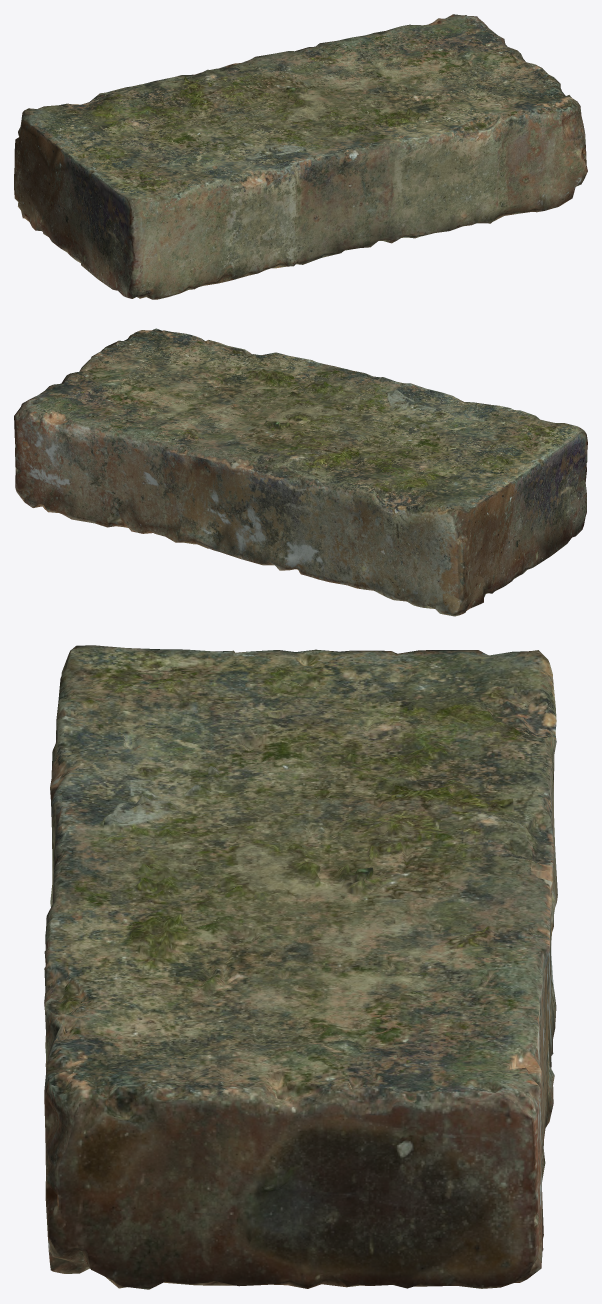
File: PX_Fired_brick_01_LOD3.fbx
3 renders of one model, top to bottom at view 1: azimuth 30°, elevation 25°; view 2: azimuth 150°, elevation 25°; view 3: azimuth 270°, elevation 25°, orthographic. The views are drawn at different scales.
Parts seen in each view (by area): view 1: PX_Fired_brick_01_LOD3; view 2: PX_Fired_brick_01_LOD3; view 3: PX_Fired_brick_01_LOD3.
Part boxes in pixels (bbox=[...]): PX_Fired_brick_01_LOD3: bbox=[14, 14, 587, 299]; PX_Fired_brick_01_LOD3: bbox=[14, 328, 587, 616]; PX_Fired_brick_01_LOD3: bbox=[44, 645, 557, 1289].
Size of the model in its own units: 26.85 by 6.13 by 13.03.
